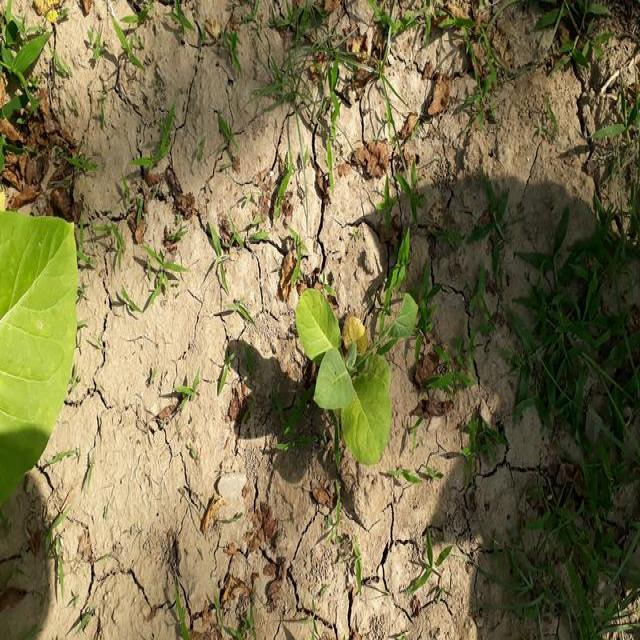crop: (300, 291, 394, 467), (1, 208, 54, 507)
